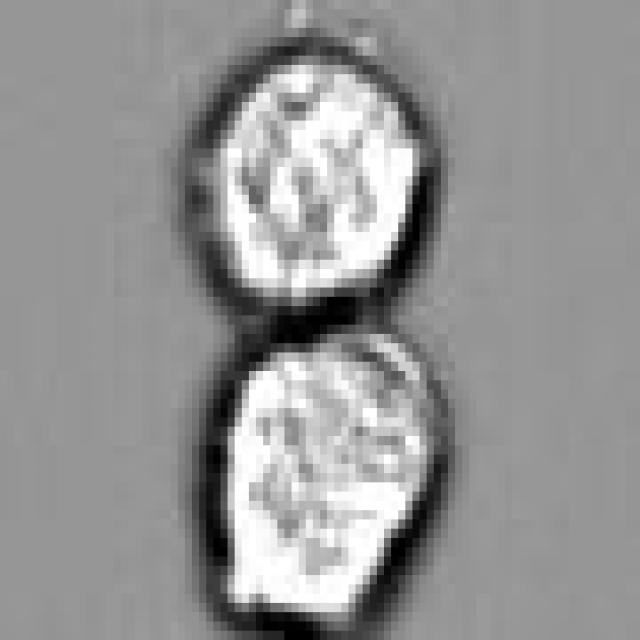WBC: (206, 324, 455, 640), (199, 37, 427, 325)
